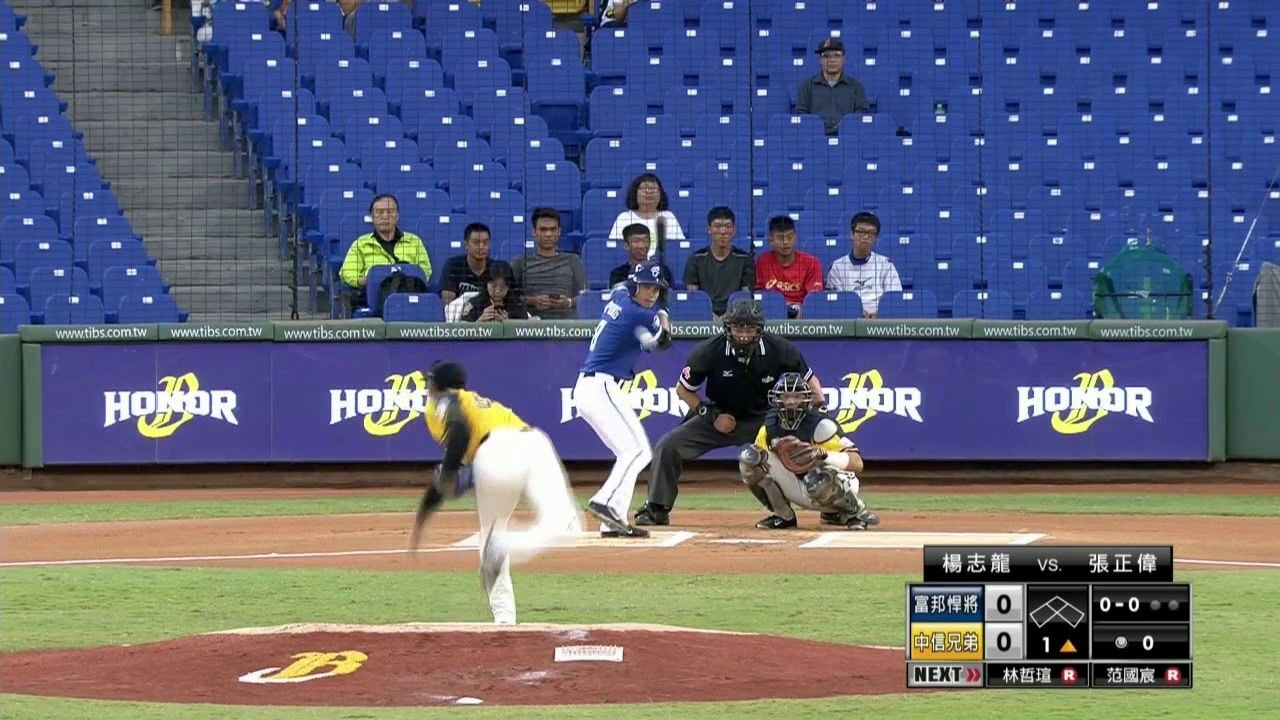ball: (630, 322, 658, 351)
base: (1029, 594, 1087, 629)
bat: (654, 212, 668, 307)
out: (1147, 596, 1182, 613)
score1: (985, 584, 1023, 620)
score2: (985, 622, 1022, 658)
session: (1036, 633, 1078, 655)
strikeball: (1095, 593, 1142, 616)
total: (1109, 631, 1162, 655)
